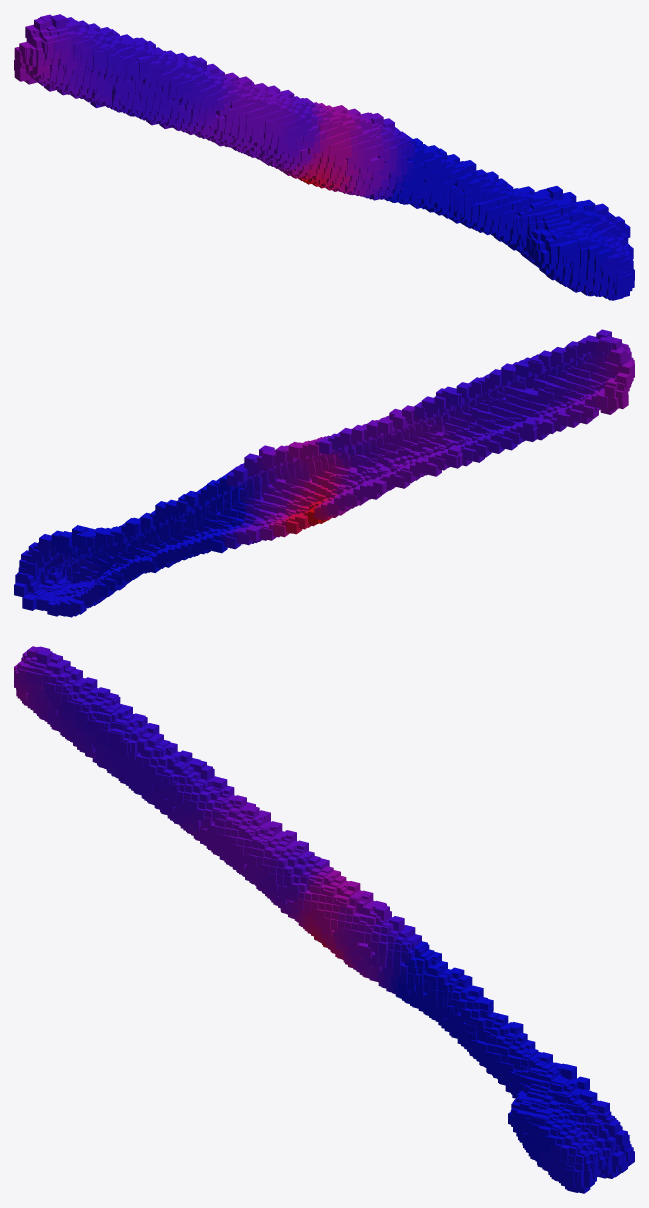
Rendered from heatmap.glb.
3 renders of one model, top to bottom at view 1: azimuth 30°, elevation 25°; view 2: azimuth 150°, elevation 25°; view 3: azimuth 330°, elevation 25°, orthographic.
Parts seen in each view (by area): view 1: world; view 2: world; view 3: world.
Boxes of the visible parts, x1=… form: world: x1=14, y1=14, x2=634, y2=300; world: x1=14, y1=329, x2=634, y2=617; world: x1=14, y1=646, x2=634, y2=1193.
Bounding box in the file's own units: 0.1818 × 0.1153 × 0.0235.
